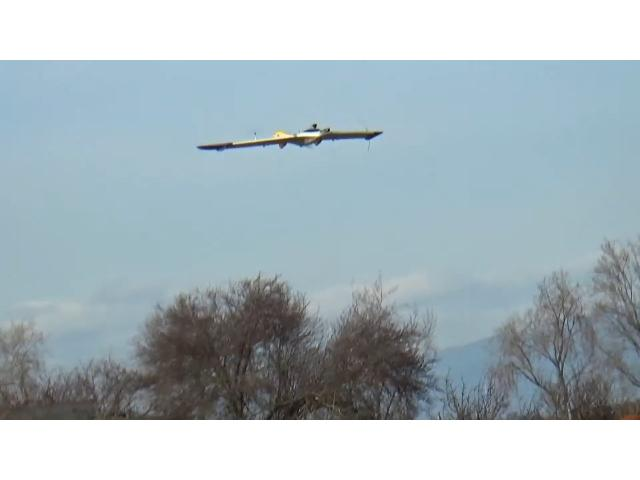Anti-Drone: (196, 123, 384, 151)
